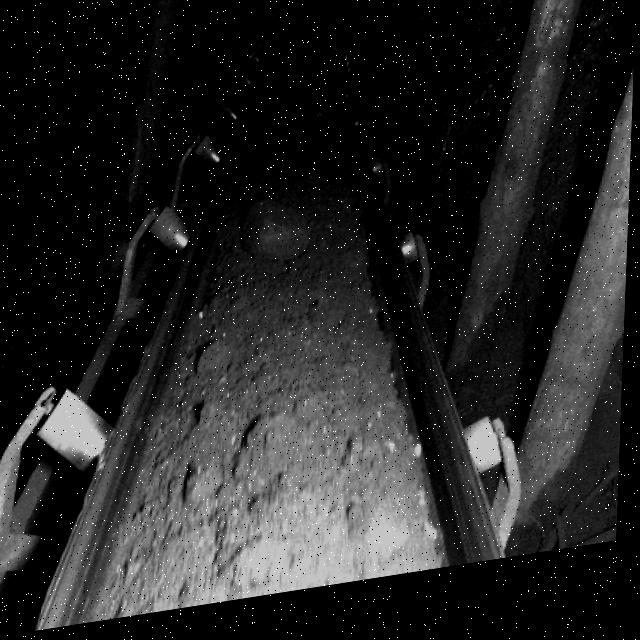large_sized_coal: (244, 204, 319, 278)
